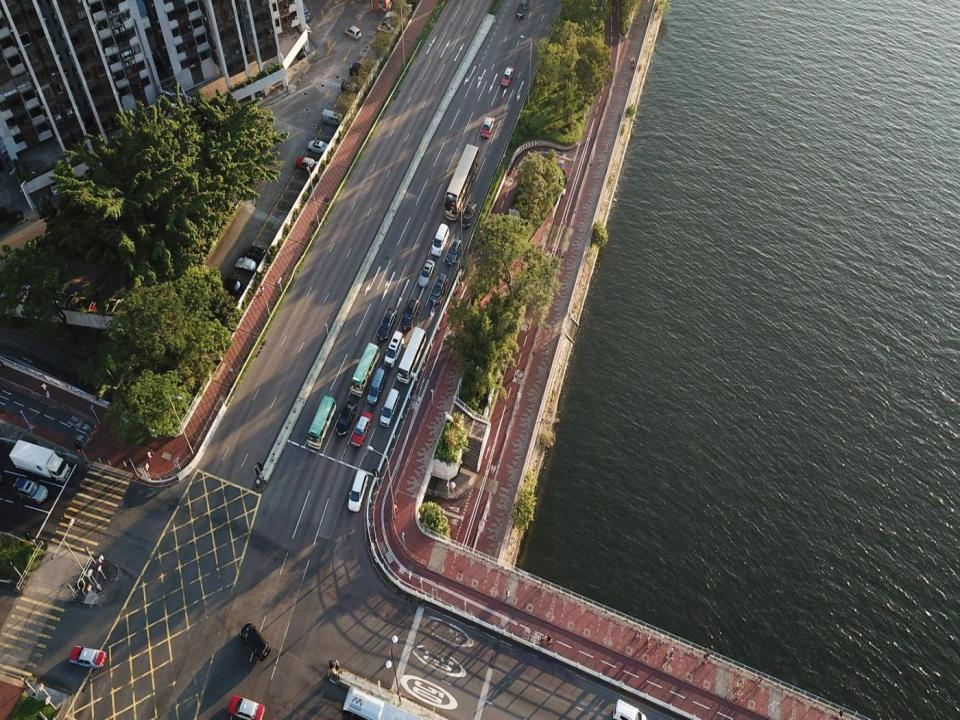bus: (444, 143, 480, 222), (396, 327, 426, 383), (306, 395, 336, 450), (349, 342, 379, 396)
car: (239, 620, 271, 660), (68, 644, 107, 669), (12, 477, 48, 503), (228, 694, 265, 719), (350, 409, 373, 448), (383, 330, 404, 367), (336, 401, 357, 437), (377, 307, 397, 342), (400, 299, 421, 331), (368, 366, 384, 406), (431, 271, 447, 306), (222, 278, 246, 298), (460, 201, 477, 229), (418, 260, 434, 288), (446, 237, 461, 266), (296, 157, 320, 174), (242, 247, 266, 262), (481, 114, 495, 138), (307, 140, 330, 153), (500, 66, 513, 87), (341, 80, 360, 94), (236, 257, 256, 270), (345, 25, 362, 40), (516, 0, 528, 20)
truck: (8, 439, 72, 482)
van: (379, 388, 400, 428), (348, 470, 368, 512), (612, 699, 646, 719), (431, 223, 449, 256), (321, 109, 345, 125), (348, 61, 370, 77)
